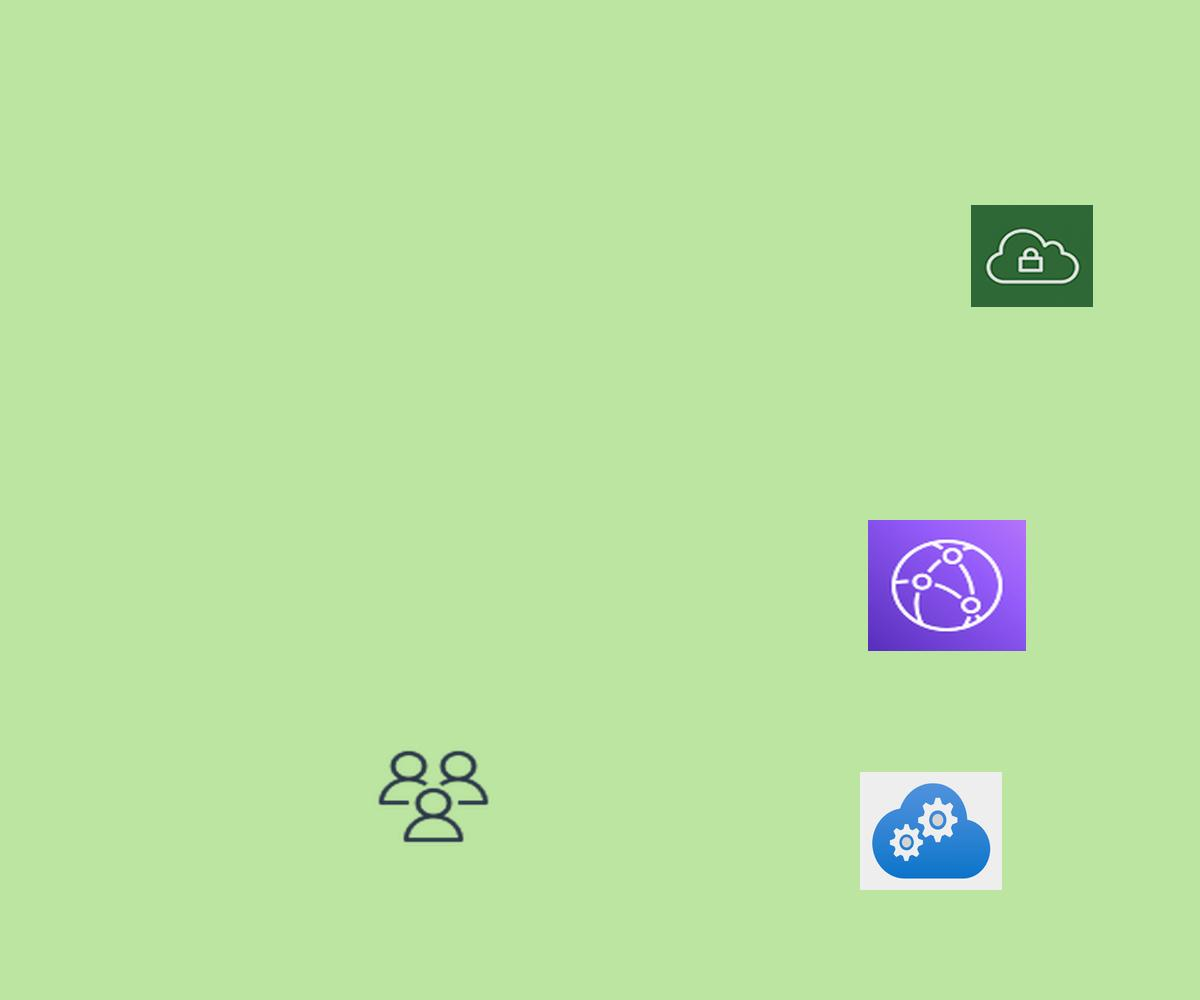AWS-CloudFront: (868, 520, 1026, 651)
AWS-Private_vpc: (971, 205, 1093, 307)
AWS-Res_Users: (374, 747, 493, 846)
Azure_cloud_services: (860, 772, 1002, 890)
